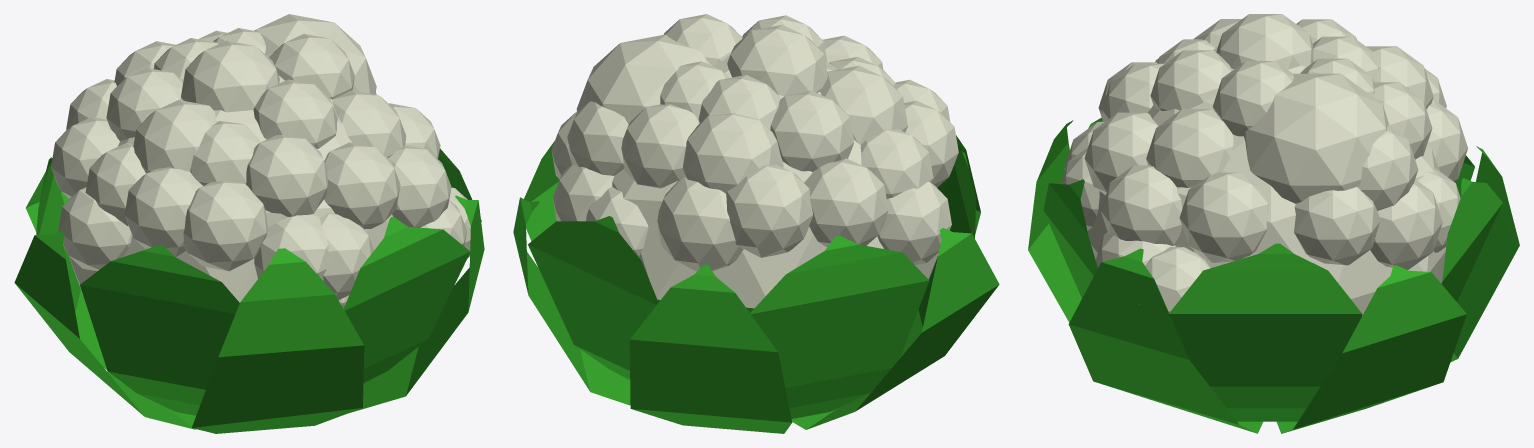
The model's file is Cauliflower_Deep Zaveri.gltf.
3 renders of one model, left to right at view 1: azimuth 30°, elevation 25°; view 2: azimuth 150°, elevation 25°; view 3: azimuth 270°, elevation 25°, orthographic. The views are drawn at different scales.
Parts seen in each view (by area): view 1: Icosphere.023; view 2: Icosphere.023; view 3: Icosphere.023.
Boxes of the visible parts, x1,y1,x2,y2 form: Icosphere.023: [14, 14, 484, 433]; Icosphere.023: [513, 14, 999, 433]; Icosphere.023: [1028, 14, 1519, 433].
Size of the model in its own units: 2.47 by 2.14 by 2.55.
